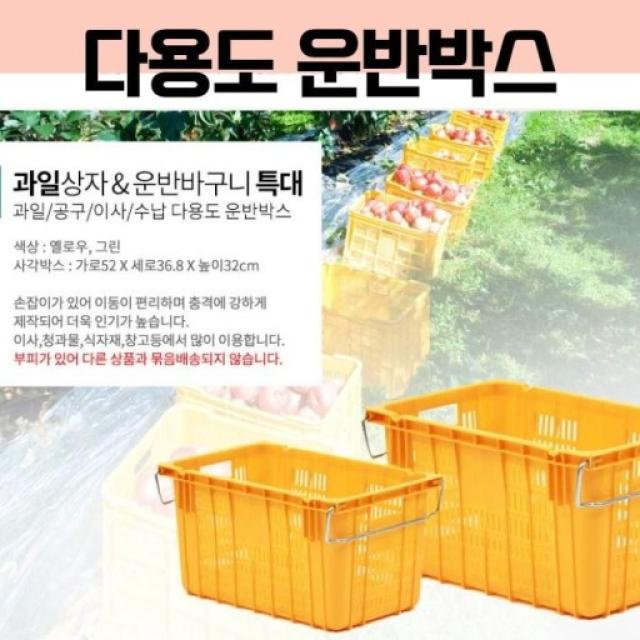basket: (134, 424, 446, 640)
